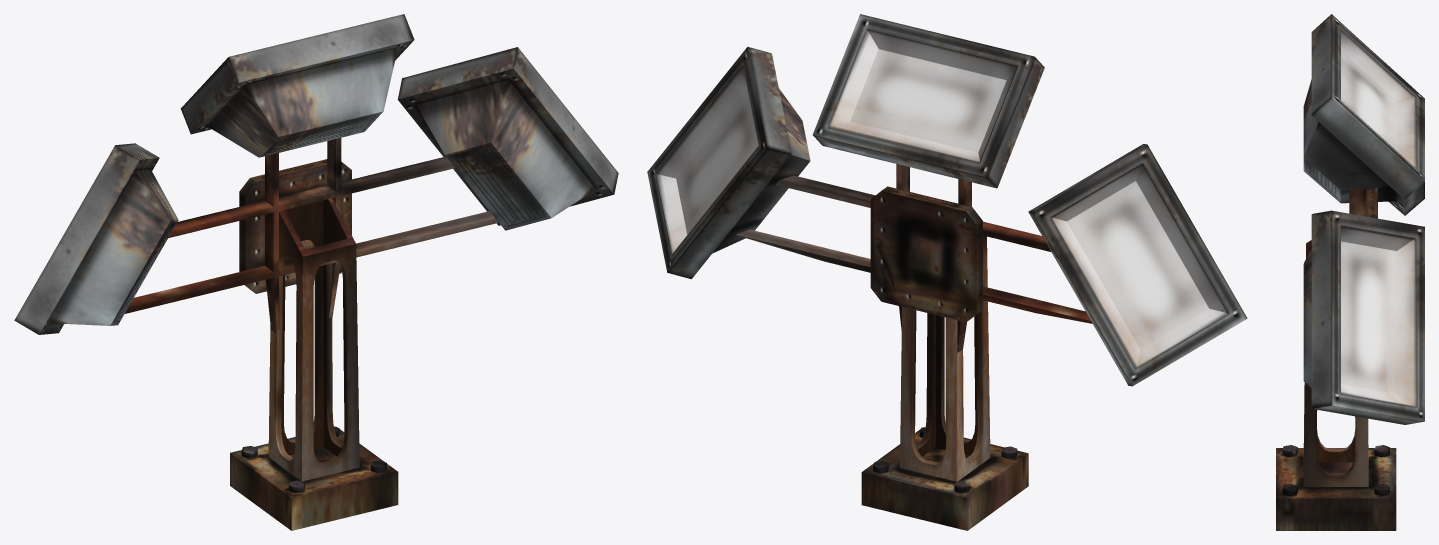
Rendered from YardLamp_Wall_ALL.FBX.
3 views of the same model, side by side, from view 1: azimuth 30°, elevation 25°; view 2: azimuth 150°, elevation 25°; view 3: azimuth 270°, elevation 25° (orthographic). The views are drawn at different scales.
Parts seen in each view (by area): view 1: YardLamp_Wall_LOD0; view 2: YardLamp_Wall_LOD0; view 3: YardLamp_Wall_LOD0.
Part boxes in pixels (bbox=[...]): YardLamp_Wall_LOD0: bbox=[14, 14, 618, 530]; YardLamp_Wall_LOD0: bbox=[647, 14, 1247, 530]; YardLamp_Wall_LOD0: bbox=[1276, 14, 1424, 530].
Size of what is drawn, in the model's own units: 1849 by 1350 by 405.
